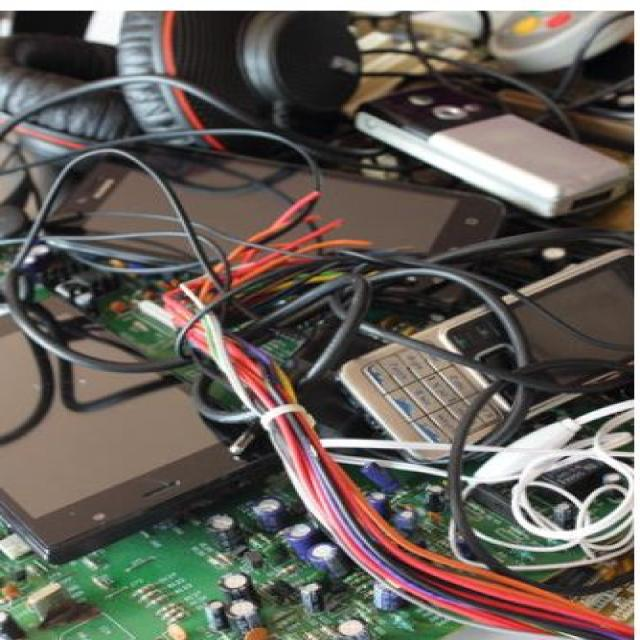electronic: (276, 205, 640, 492)
